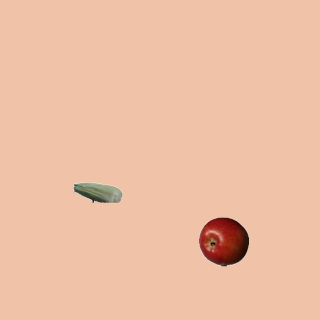Apple Braeburn: (198, 216, 248, 266)
Corn Husk: (72, 167, 122, 217)
